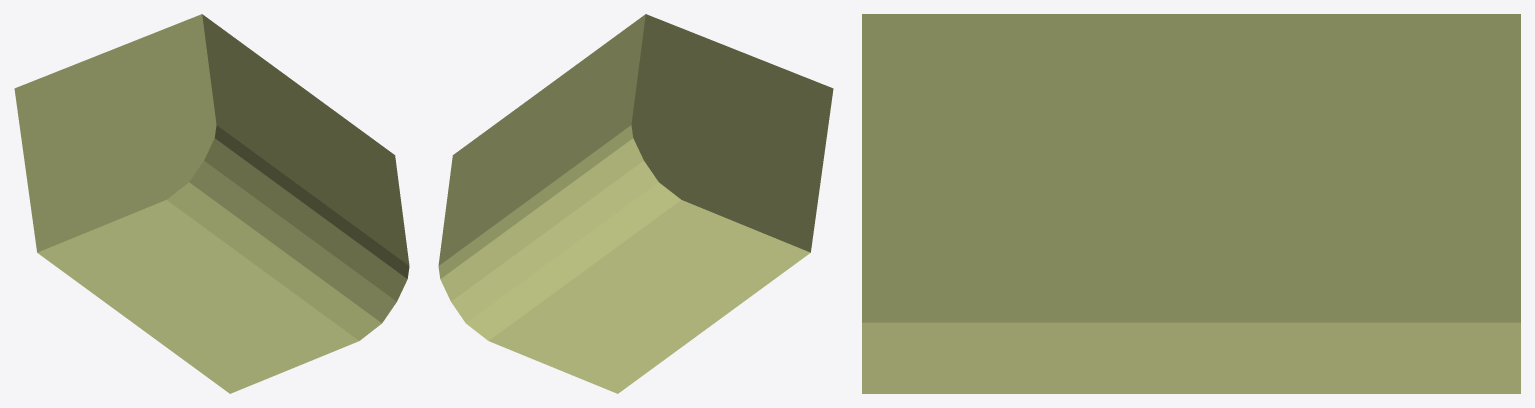
3 views of the same model, side by side, from view 1: azimuth 30°, elevation 25°; view 2: azimuth 150°, elevation 25°; view 3: azimuth 270°, elevation 25° (orthographic). The views are drawn at different scales.
Visible parts, largest first — view 1: 0_1_3_2_2_1_0_1_0_2_1; view 2: 0_1_3_2_2_1_0_1_0_2_1; view 3: 0_1_3_2_2_1_0_1_0_2_1.
Part boxes in pixels (x1,y1,x2,y2): 0_1_3_2_2_1_0_1_0_2_1: [14, 14, 409, 393]; 0_1_3_2_2_1_0_1_0_2_1: [438, 14, 833, 393]; 0_1_3_2_2_1_0_1_0_2_1: [862, 14, 1520, 393].
Bounding box in the file's own units: 5.44 × 5.11 × 9.
